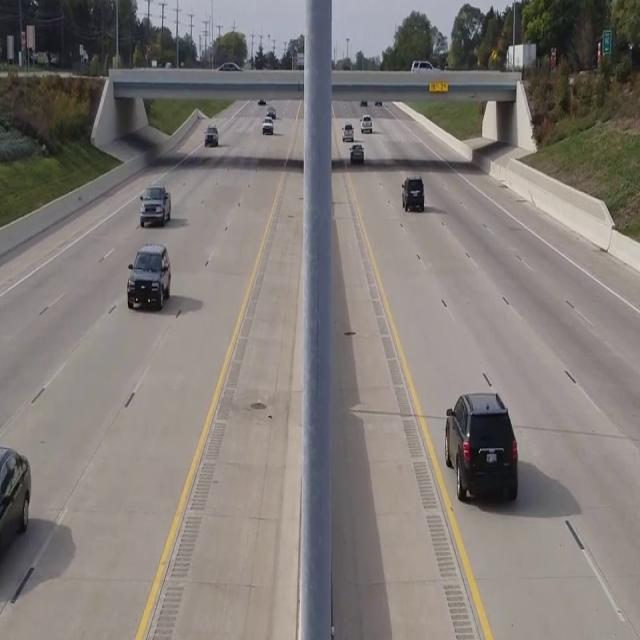car: (443, 391, 518, 504), (0, 443, 31, 583), (126, 243, 171, 310), (138, 184, 170, 226), (401, 175, 424, 211), (205, 126, 218, 147), (360, 115, 372, 133)
